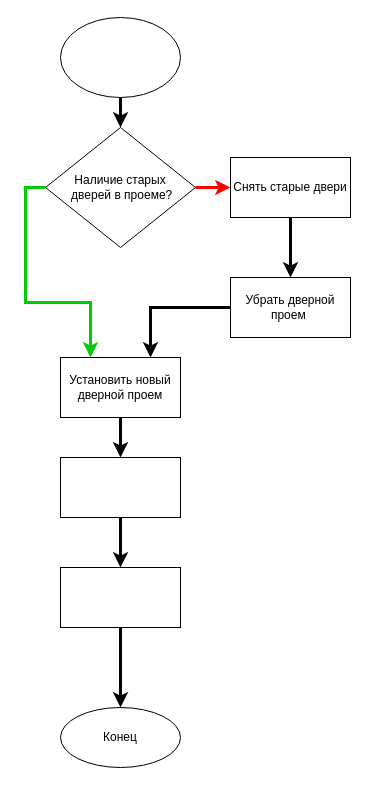
This 368x785 diagram has some shape labels left out. Here are the shapes that lost their labels. From the top down, the centre of each, then its label:
pixel 120 57: Старт
pixel 120 487: Установить двери
pixel 120 597: Проверка на открывание и закрывание, замка
